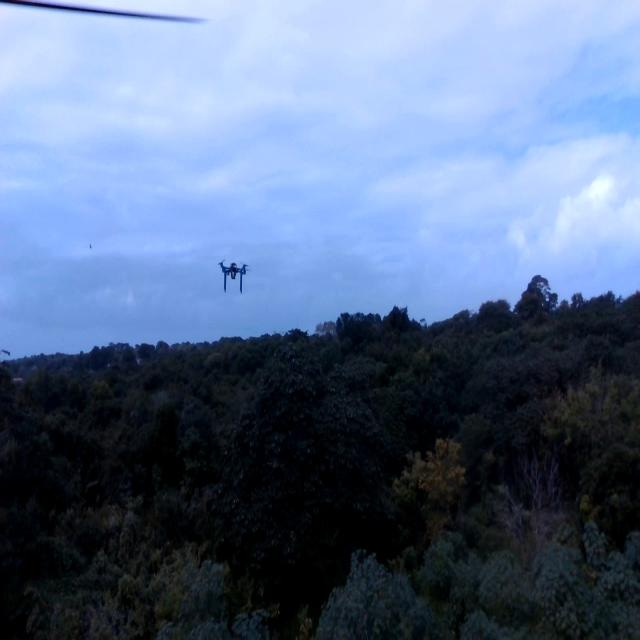-uav-: (212, 250, 258, 308)
